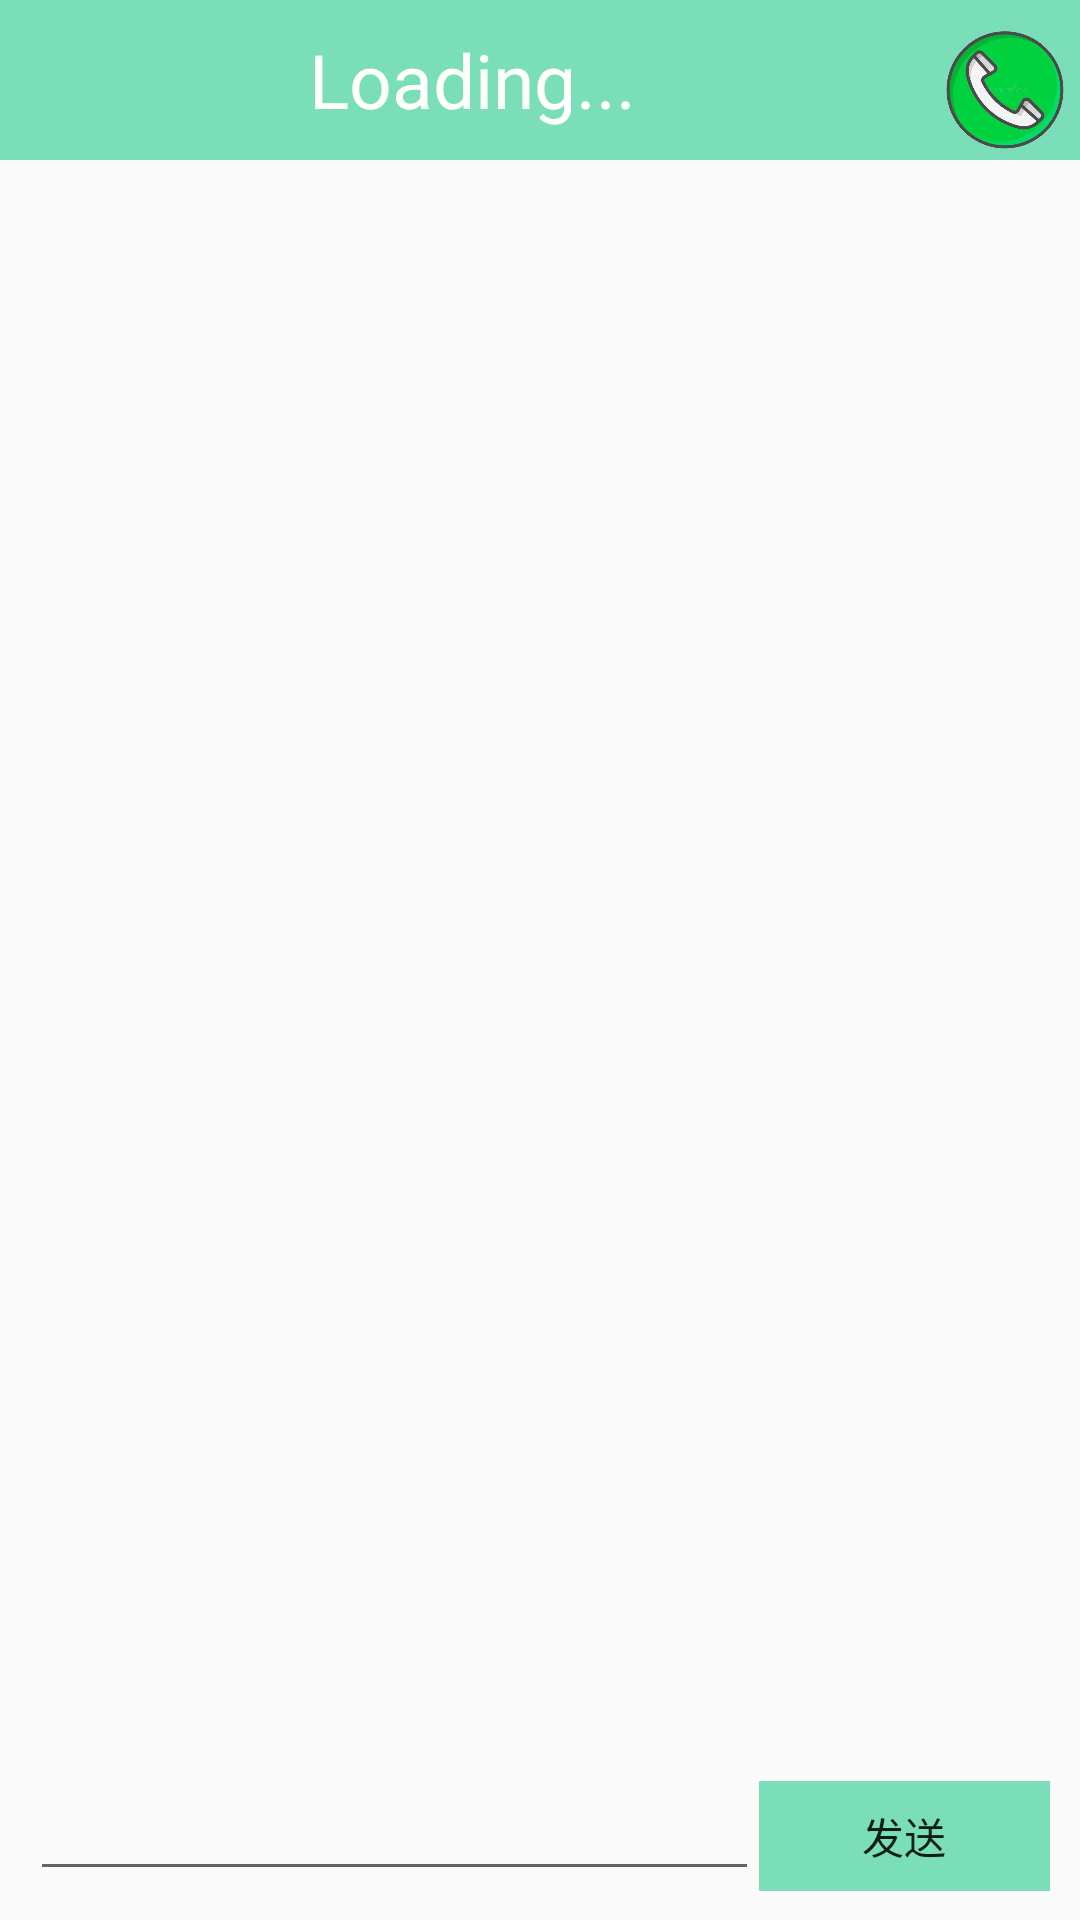

Named icons in this screenshot (1080 x 1920) and their centers, [x,y]:
answer: [1005,90]
